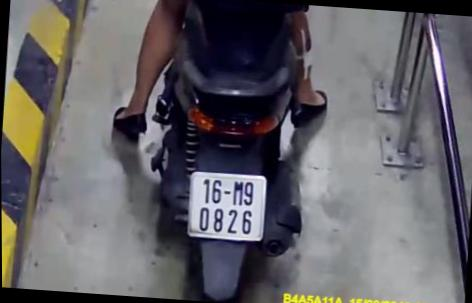LP: (183, 166, 270, 244)
